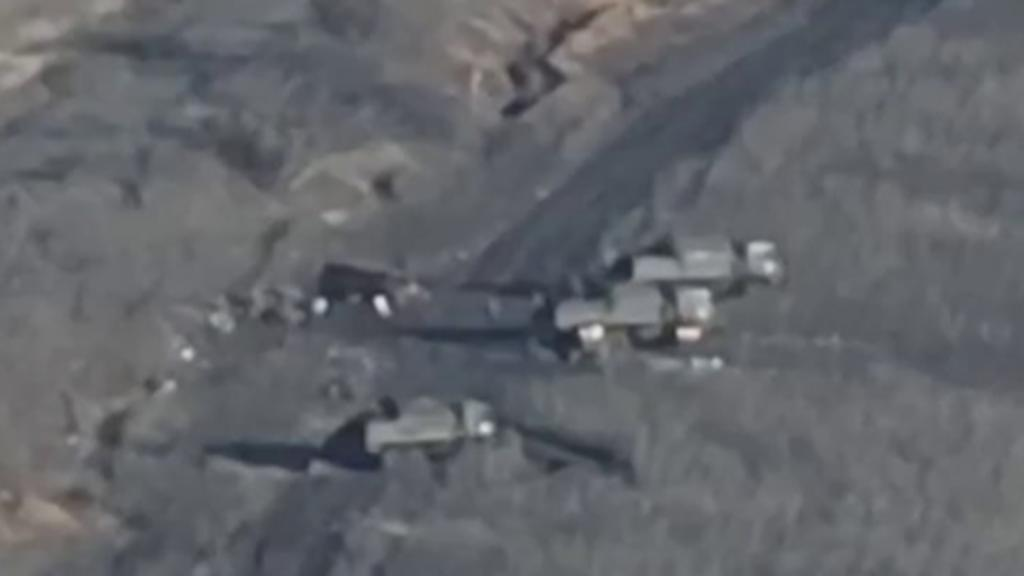TRUCK: (550, 283, 718, 354), (358, 389, 500, 467), (624, 230, 786, 286)
